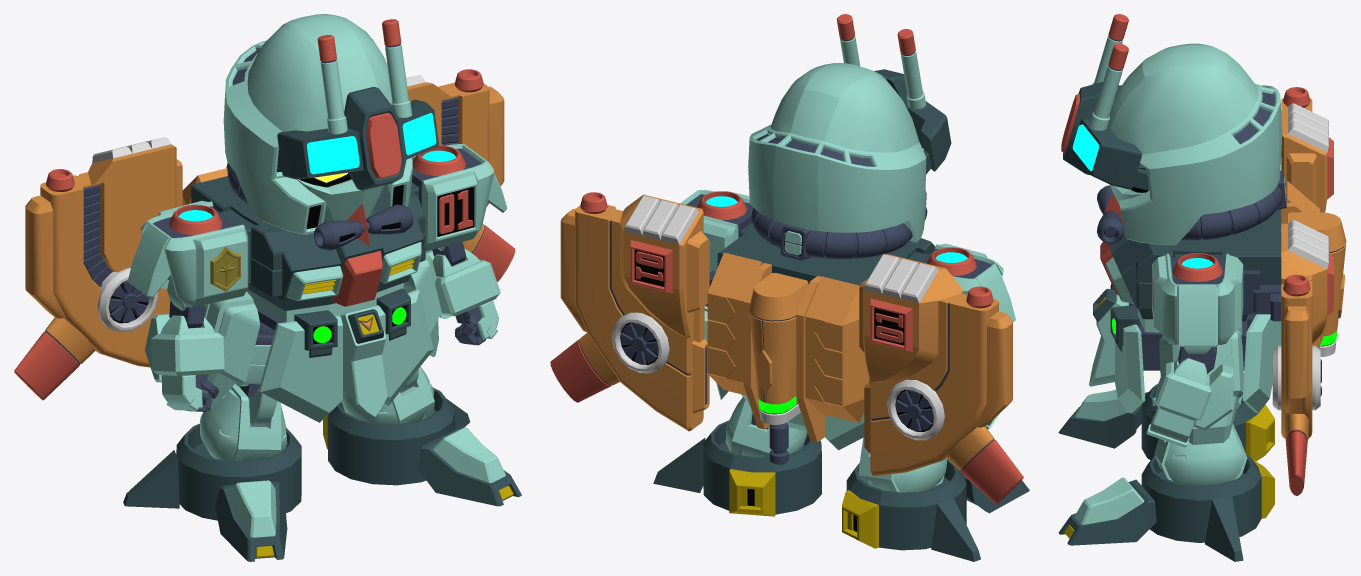
Rendered from gundiver_stand01.glb.
The picture shows the model from 3 angles, left to right: view 1: azimuth 30°, elevation 25°; view 2: azimuth 150°, elevation 25°; view 3: azimuth 270°, elevation 25°; orthographic projection. The views are drawn at different scales.
Visible parts, largest first — view 1: polySurface253, polySurface293001, polySurface274, goglpolySurface40, polySurface66, pCube149, polySurface169001, polySurface66001, polySurface169, polySurface65, polySurface65001, polySurface162 (+29 smaller); view 2: polySurface253, polySurface293001, polySurface293, polySurface66, polySurface66001, polySurface42, polySurface330, polySurface274, polySurface54, polySurface290, polySurface292001, polySurface61 (+34 smaller); view 3: polySurface253, polySurface66, polySurface274, polySurface293, goglpolySurface40, polySurface65, polySurface169, polySurface338, polySurface65001, polySurface293001, pCube124, polySurface271 (+31 smaller).
Boxes of the visible parts, left/top/right/bottom form: polySurface253: left=223, top=14, right=412, bottom=234; polySurface293001: left=40, top=137, right=176, bottom=367; polySurface274: left=191, top=176, right=425, bottom=310; goglpolySurface40: left=277, top=87, right=438, bottom=190; polySurface66: left=323, top=387, right=454, bottom=485; pCube149: left=258, top=310, right=342, bottom=422; polySurface169001: left=141, top=201, right=248, bottom=307; polySurface66001: left=176, top=423, right=301, bottom=520; polySurface169: left=412, top=144, right=493, bottom=251; polySurface65: left=417, top=427, right=521, bottom=506; polySurface65001: left=215, top=480, right=287, bottom=561; polySurface162: left=200, top=384, right=287, bottom=461; polySurface253: left=748, top=63, right=926, bottom=242; polySurface293001: left=862, top=254, right=998, bottom=476; polySurface293: left=575, top=194, right=703, bottom=431; polySurface66: left=703, top=420, right=821, bottom=516; polySurface66001: left=842, top=459, right=966, bottom=550; polySurface42: left=749, top=273, right=808, bottom=424; polySurface330: left=805, top=276, right=869, bottom=422; polySurface274: left=717, top=231, right=935, bottom=285; polySurface54: left=751, top=208, right=912, bottom=259; polySurface290: left=687, top=231, right=709, bottom=413; polySurface292001: left=947, top=426, right=1023, bottom=504; polySurface61: left=707, top=252, right=763, bottom=395; polySurface253: left=1108, top=43, right=1282, bottom=245; polySurface66: left=1141, top=454, right=1274, bottom=542; polySurface274: left=1105, top=209, right=1281, bottom=321; polySurface293: left=1281, top=220, right=1328, bottom=438; goglpolySurface40: left=1061, top=82, right=1149, bottom=190; polySurface65: left=1058, top=477, right=1156, bottom=545; polySurface169: left=1152, top=253, right=1243, bottom=344; polySurface338: left=1154, top=424, right=1247, bottom=485; polySurface65001: left=1058, top=389, right=1148, bottom=448; polySurface293001: left=1281, top=98, right=1328, bottom=212; pCube124: left=1110, top=305, right=1145, bottom=412; polySurface271: left=1284, top=306, right=1308, bottom=413.
Bounding box in the file's own units: 0.1729 × 0.1587 × 0.0916.
